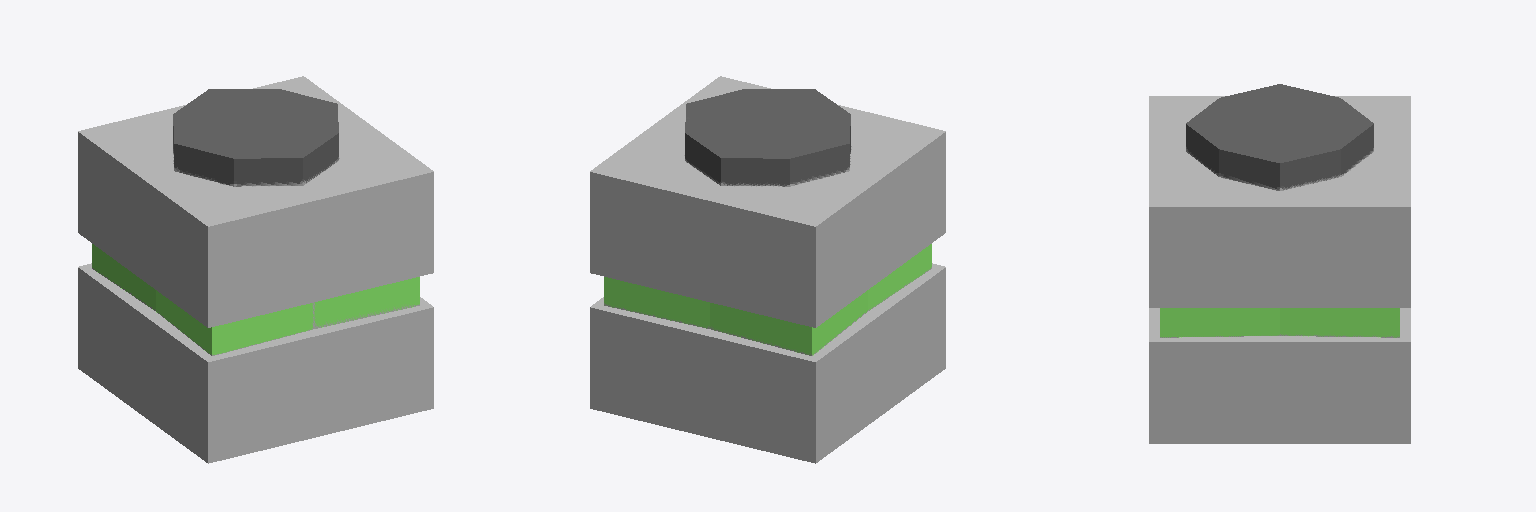
3 views of the same model, side by side, from view 1: azimuth 30°, elevation 25°; view 2: azimuth 150°, elevation 25°; view 3: azimuth 270°, elevation 25° (orthographic).
Visible parts, largest first — view 1: P_Hand_L; view 2: P_Hand_L; view 3: P_Hand_L.
Boxes of the visible parts, <box> form: P_Hand_L: <box>78,76,433,463</box>; P_Hand_L: <box>590,76,945,463</box>; P_Hand_L: <box>1149,84,1410,443</box>.
Bounding box in the file's own units: 0.3255 × 0.3638 × 0.3255.
1 materials, 1 textured.